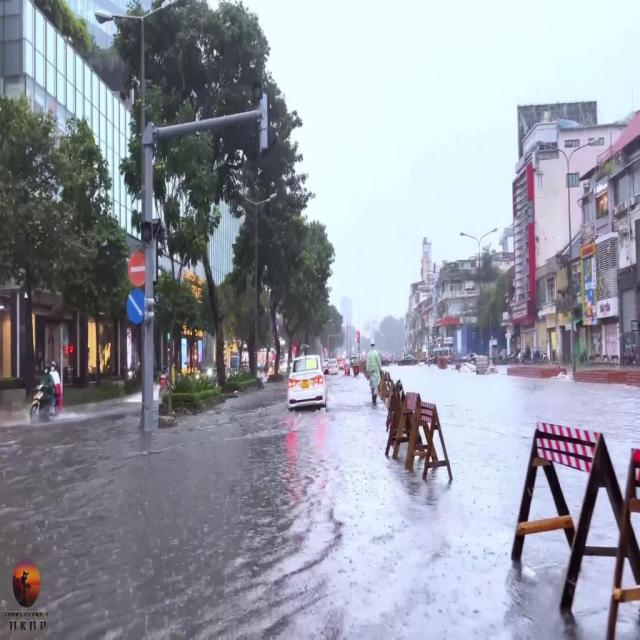cam_xe_di_nguoc_chieu: (128, 250, 146, 286)
huong_phai_di_vuot_chuong_ngai_vat_phai: (126, 288, 144, 324)
